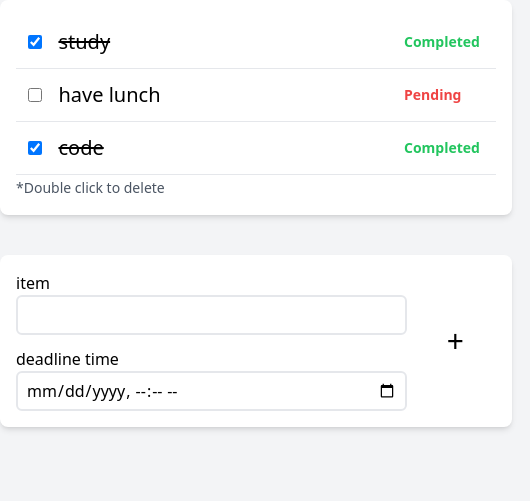
Test: todoList component › should add a new task to the list when input is submitted
The image size is (530, 501).
Step 1. Type "new task" into the field labelled "item" → (211, 315), box top-left (16, 295), bottom-right (407, 335)
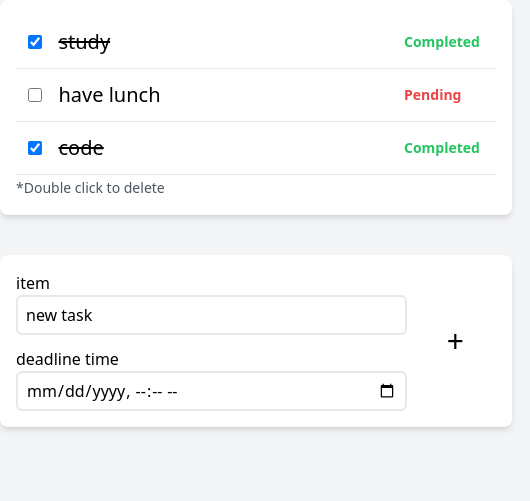
Step 2. Click the button "+" → (455, 341), box top-left (415, 271), bottom-right (496, 411)
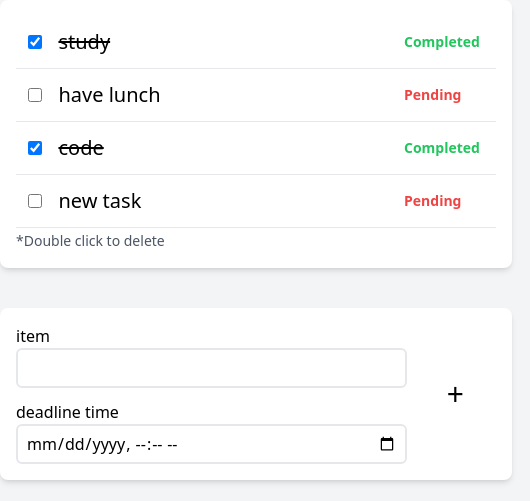
expect the text "new task" is shown: met, box top-left (58, 187), bottom-right (141, 214)
expect the text "Pending" in the row of "new task" is shown: met, box top-left (404, 191), bottom-right (462, 210)
